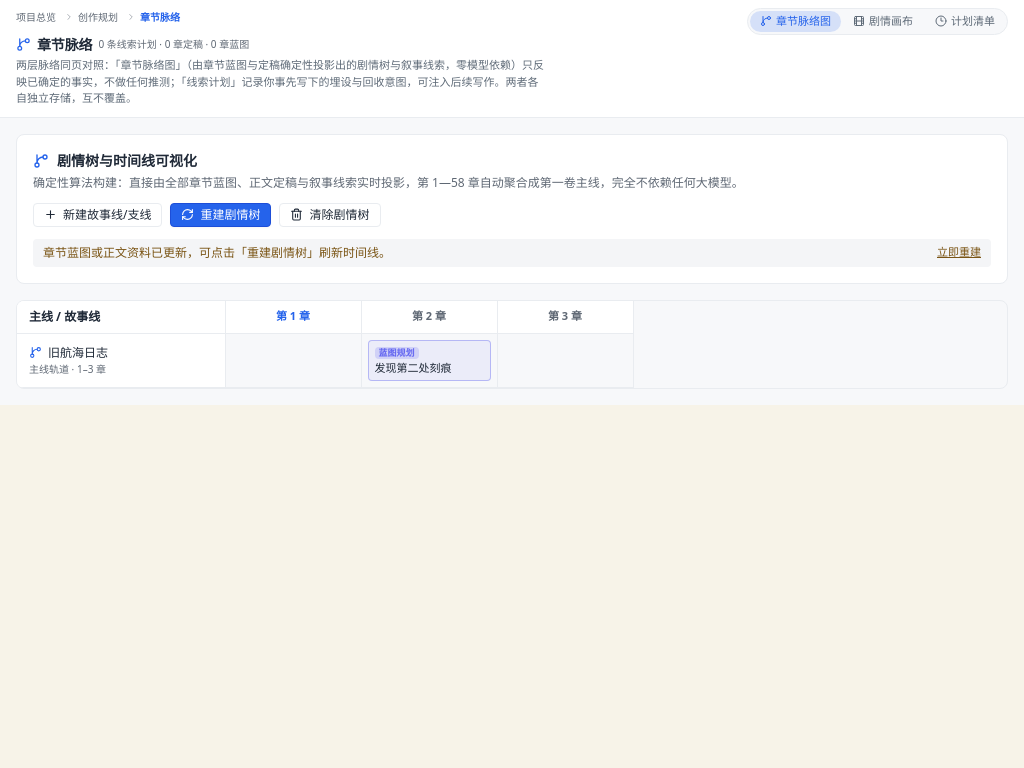
NarrativeThreadEditor › rebuilds the plot tree deterministically from stored sources and keeps plans in the same editor
The image size is (1024, 768).
Click the button "重建剧情树": {"x": 221, "y": 214} [170, 202, 272, 226]
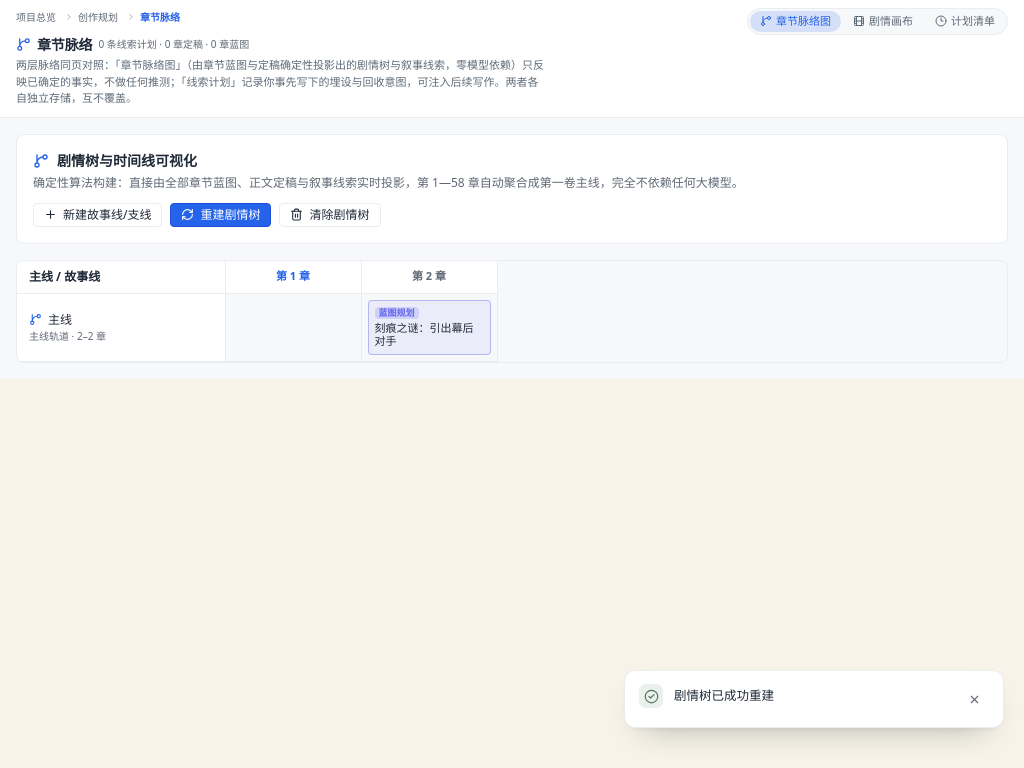
Check: the text "刻痕之谜：引出幕后对手" is shown, box [374, 320, 484, 348]
Check: the text "章节蓝图或正文资料已更新" is gone
Note: 事件 → 来源 → 章节蓝图：对话框经 portal 渲染到 body。
Click the button "蓝图规划 刻痕之谜：引出幕后对手": {"x": 429, "y": 327} [368, 300, 490, 355]
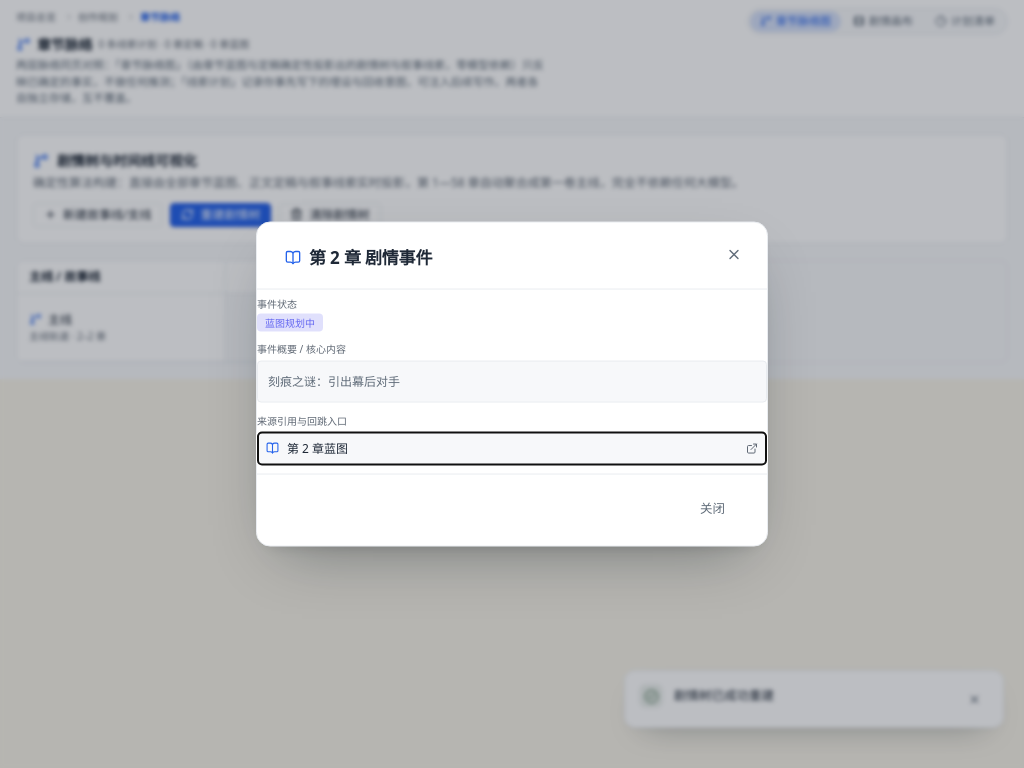
Check: the text "第 2 章 剧情事件" is shown, box [309, 246, 432, 269]
Click the button "第 2 章蓝图": {"x": 318, "y": 448} [257, 432, 767, 466]
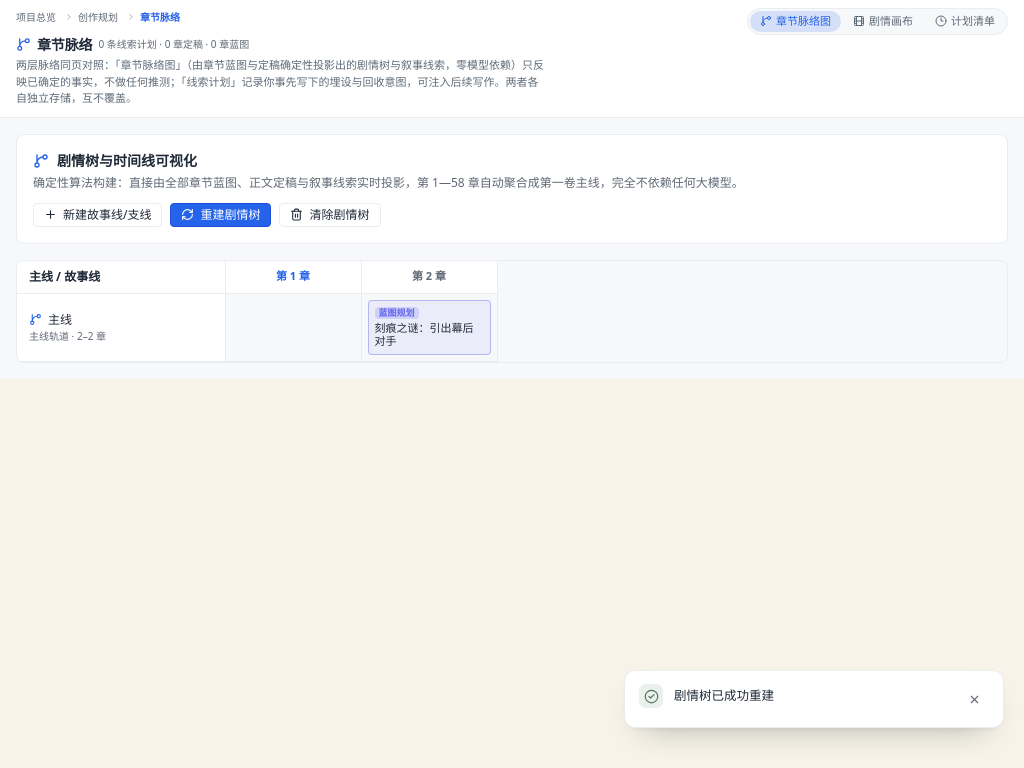
Click the button "计划清单": {"x": 965, "y": 21} [925, 11, 1005, 32]
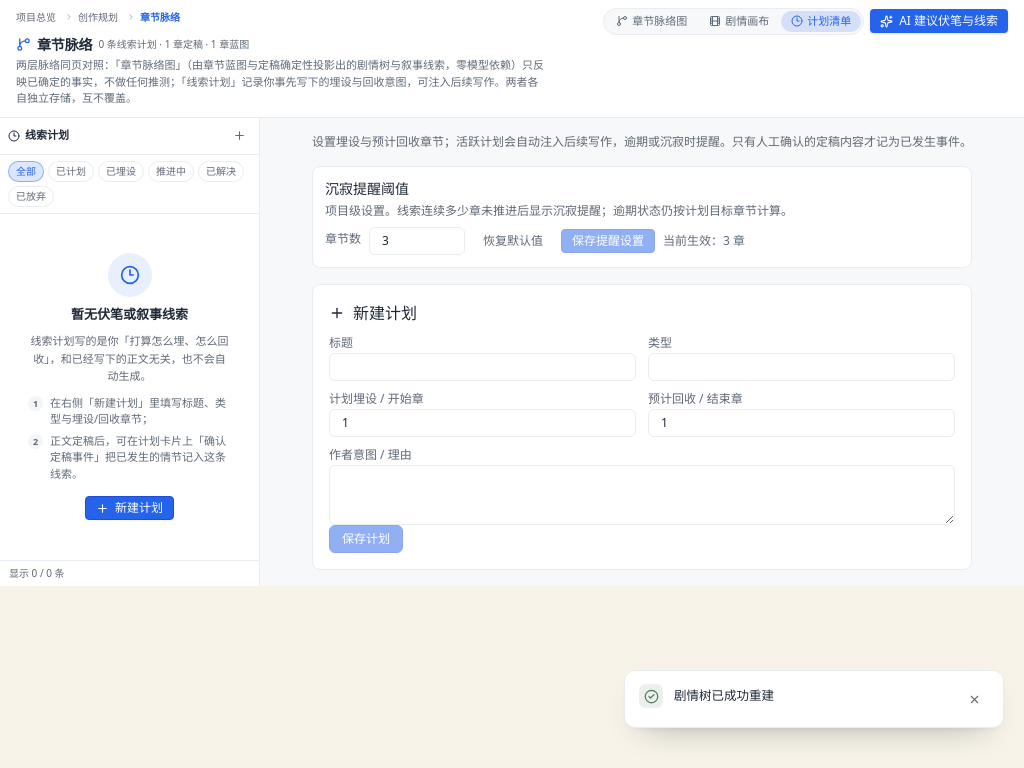
Check: the text "新建计划" is shown, box [50, 395, 226, 426]
